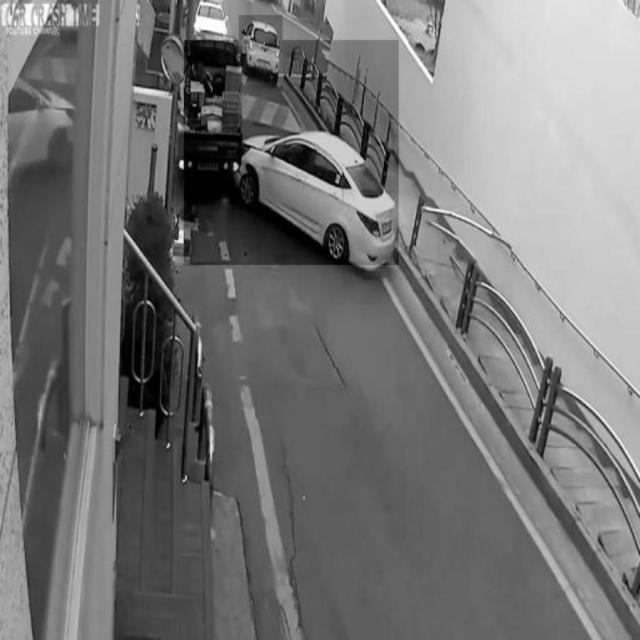accident: (184, 40, 399, 264)
vehicle: (239, 15, 283, 85)
